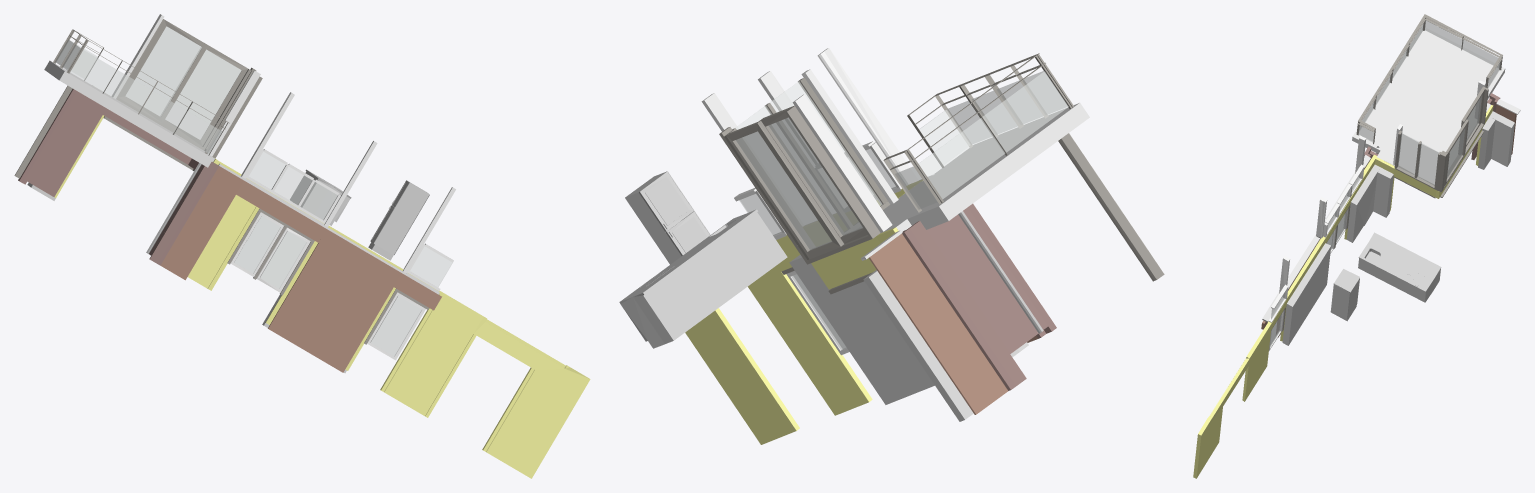
The picture shows the model from 3 angles, left to right: view 1: azimuth 30°, elevation 25°; view 2: azimuth 150°, elevation 25°; view 3: azimuth 270°, elevation 25°; orthographic projection. The views are drawn at different scales.
Parts seen in each view (by area): view 1: mesh; view 2: mesh; view 3: mesh.
Boxes of the visible parts, x1,y1,x2,y2 form: mesh: (14, 14, 590, 478); mesh: (619, 48, 1164, 444); mesh: (1193, 14, 1520, 478).
Bounding box in the file's own units: 13.21 × 11.8 × 10.27.
